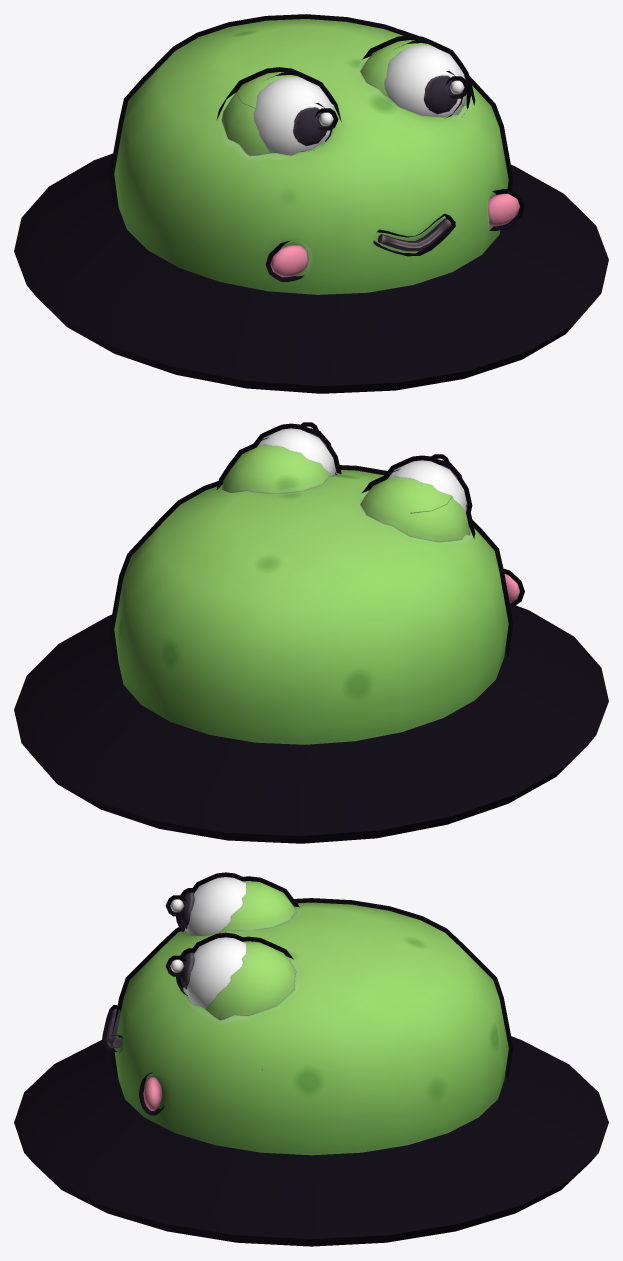
Rendered from FrogBucketHat.fbx.
The picture shows the model from 3 angles, top to bottom: view 1: azimuth 30°, elevation 25°; view 2: azimuth 150°, elevation 25°; view 3: azimuth 270°, elevation 25°; orthographic projection. The views are drawn at different scales.
Visible parts, largest first — view 1: FrogBucketHat; view 2: FrogBucketHat; view 3: FrogBucketHat.
Boxes of the visible parts, x1=… form: FrogBucketHat: x1=14, y1=14, x2=608, y2=393; FrogBucketHat: x1=14, y1=422, x2=608, y2=843; FrogBucketHat: x1=14, y1=872, x2=608, y2=1246.
Bounding box in the file's own units: 193 × 87.61 × 208.
Materials: 1 (1 with a texture image).
